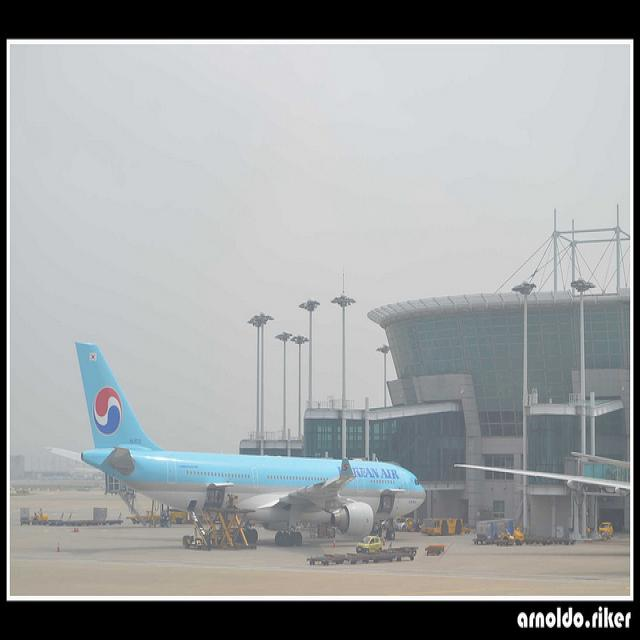Vehicle: (473, 519, 515, 546), (356, 536, 382, 553), (93, 508, 107, 526), (599, 522, 614, 538), (20, 509, 30, 526)
